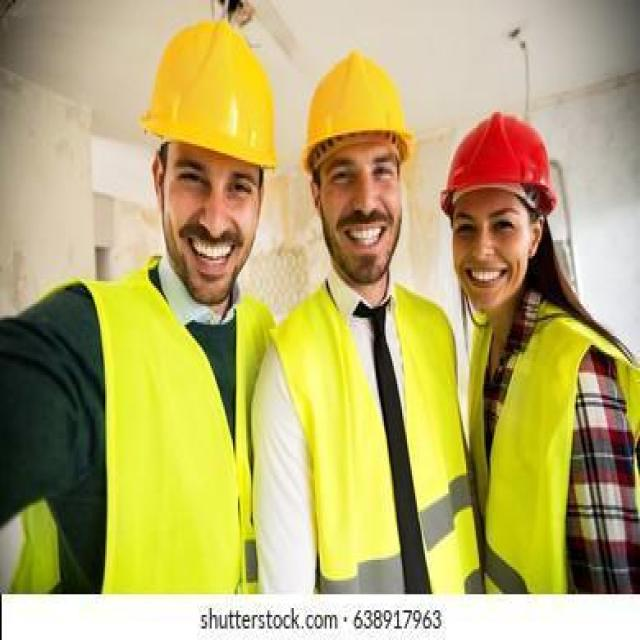helmet: (136, 20, 276, 167), (299, 50, 415, 165), (442, 110, 556, 217)
